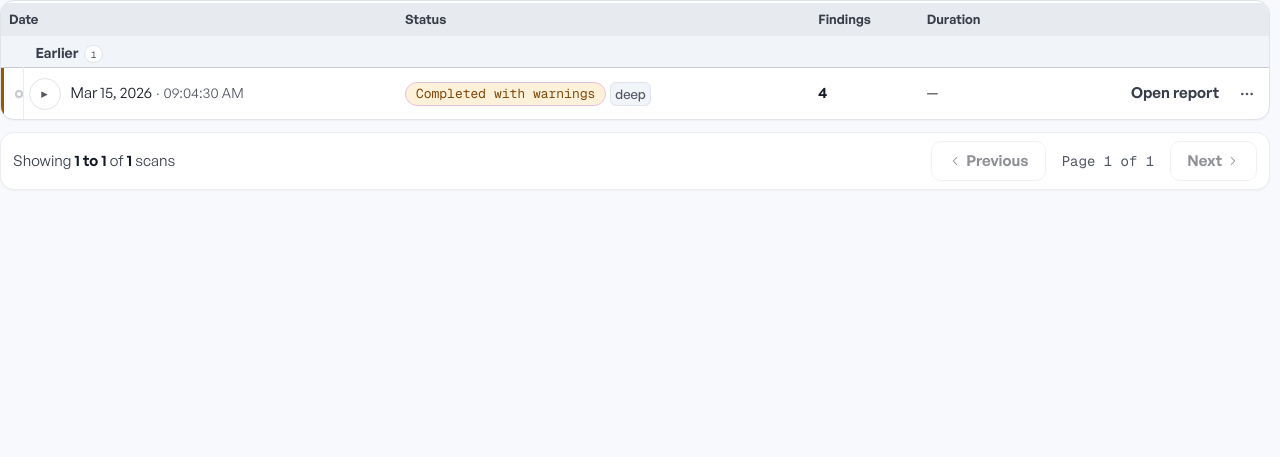
Test: HistoryTable expandable rows › toggles closed again without leaving the strip behind
Click the button with class "history-disclose".
click(45, 94)  # box [29, 78, 61, 110]
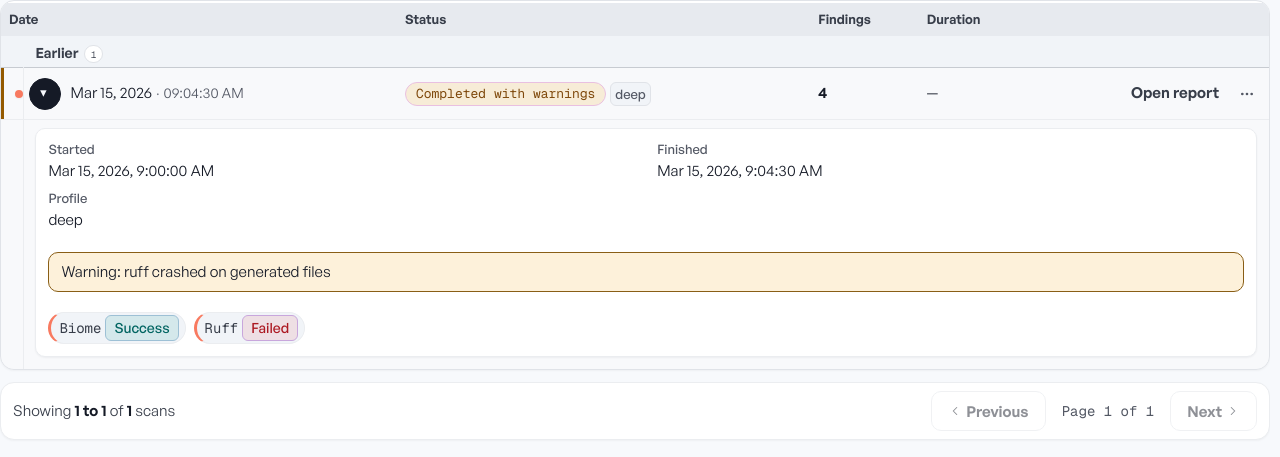
Click the button with class "history-disclose".
click(45, 94)  # box [29, 78, 61, 110]
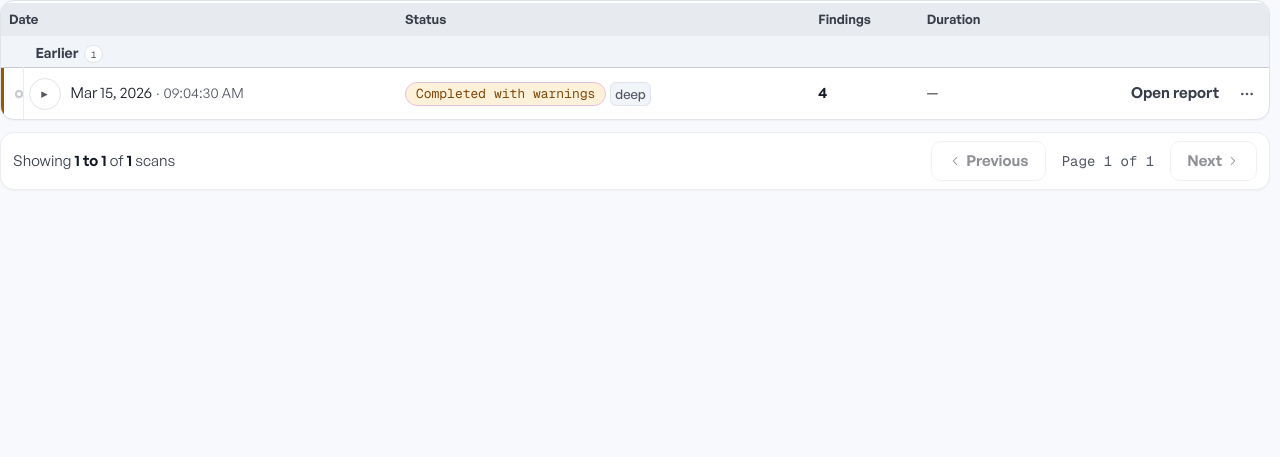
Now the row with class "history-detail-row" is gone
Now the button with class "history-disclose" is collapsed, box [29, 78, 61, 110]
